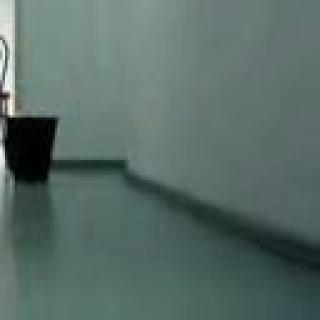fire: (10, 104, 22, 117)
